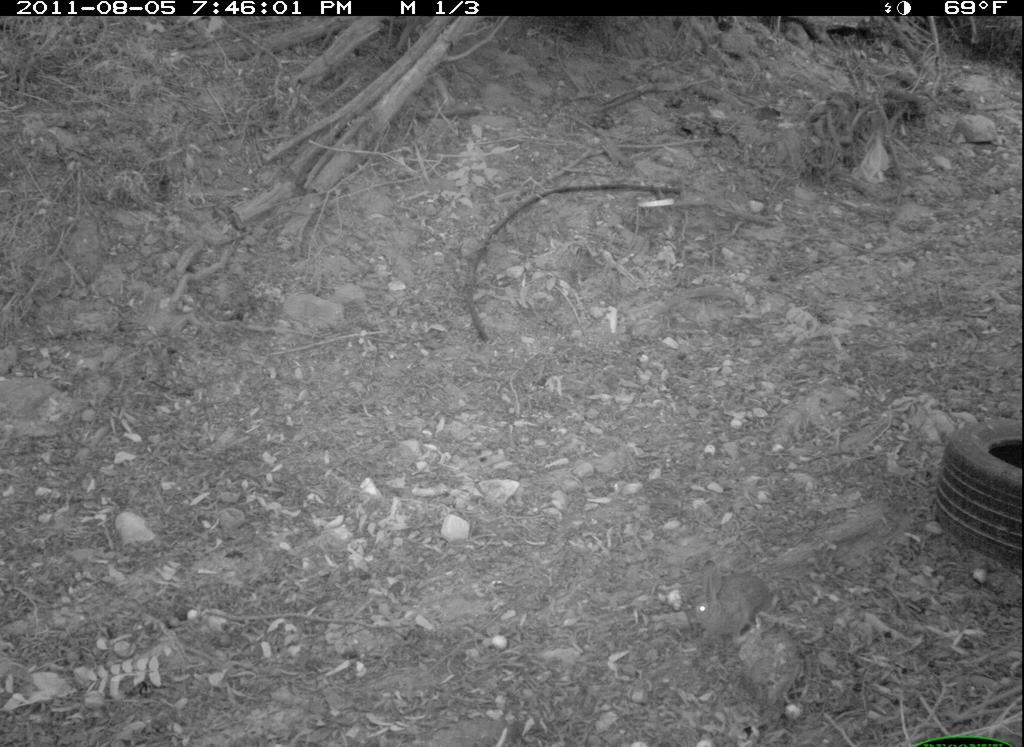rabbit: (690, 566, 780, 644)
